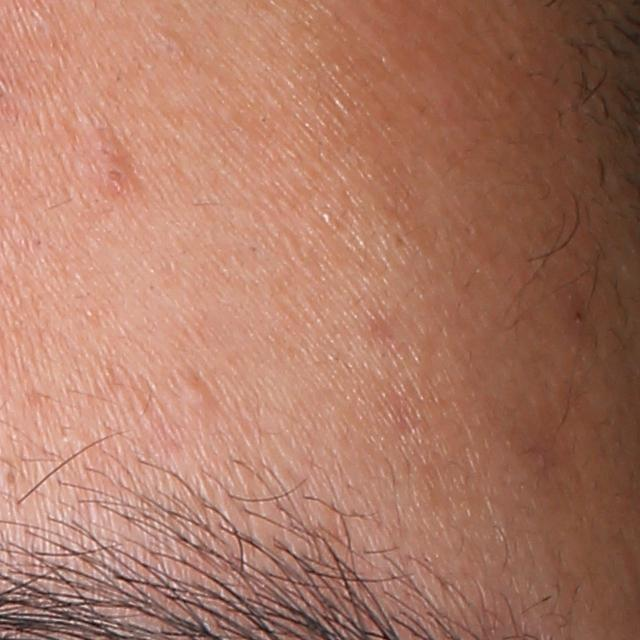comedo: (180, 378, 213, 407), (3, 468, 23, 488)
